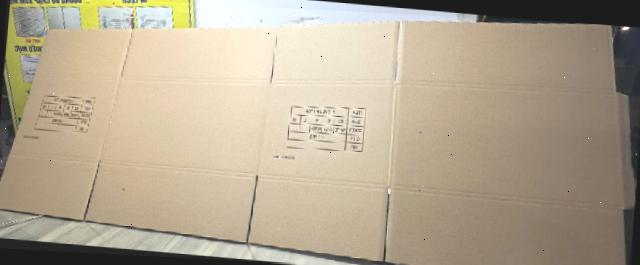box: (0, 21, 635, 265)
